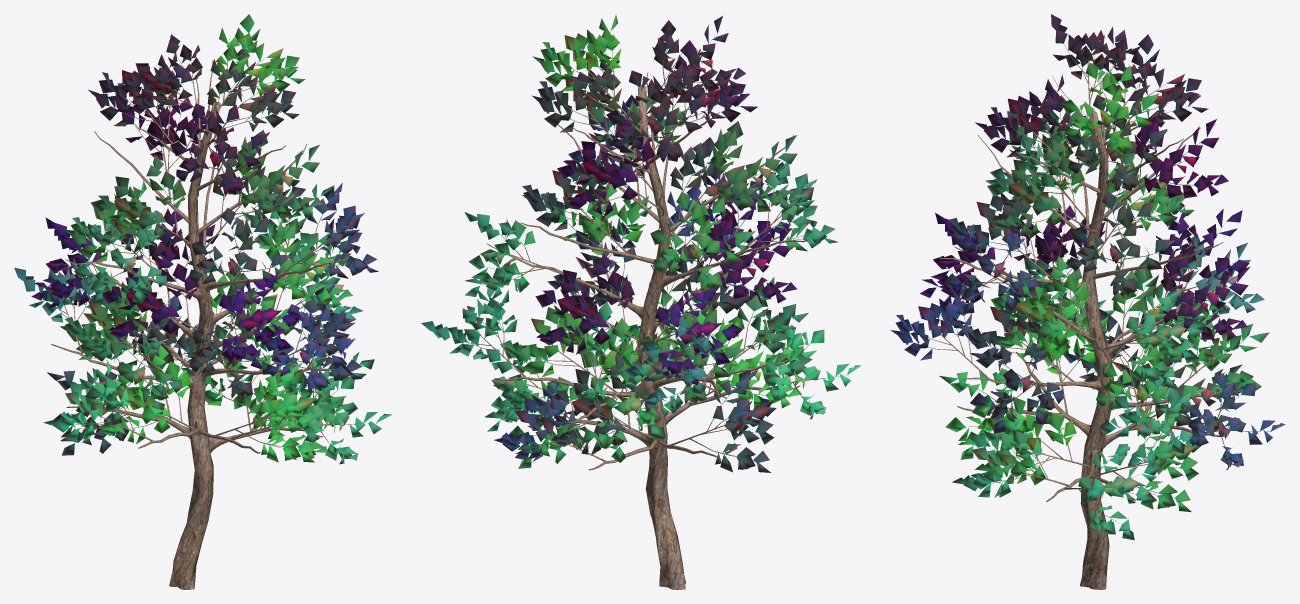
Rendered from DM.Tree.Maple.01.fbx.
The picture shows the model from 3 angles, left to right: view 1: azimuth 30°, elevation 25°; view 2: azimuth 150°, elevation 25°; view 3: azimuth 270°, elevation 25°; orthographic projection. The views are drawn at different scales.
Parts seen in each view (by area): view 1: Tree_1, Tree_0; view 2: Tree_1, Tree_0; view 3: Tree_1, Tree_0.
Part boxes in pixels (<box>): Tree_1: <box>14,14,391,464</box>; Tree_0: <box>35,39,377,589</box>; Tree_1: <box>421,15,861,472</box>; Tree_0: <box>451,31,846,589</box>; Tree_1: <box>890,14,1285,540</box>; Tree_0: <box>903,42,1271,589</box>.
Bounding box in the file's own units: 350 × 516 × 332.
Materials: 1 (1 with a texture image).
